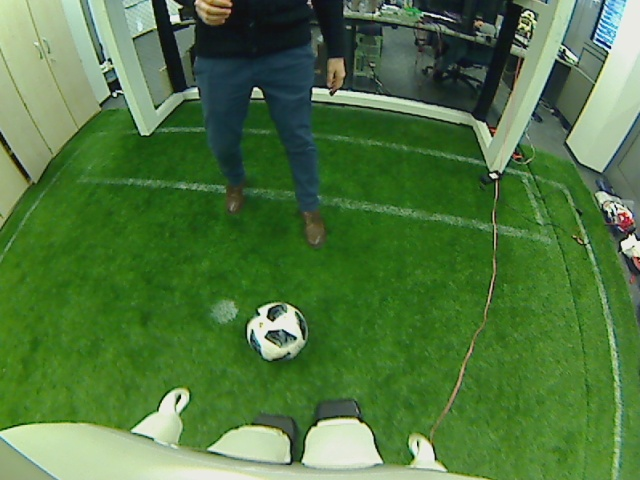ball: (244, 301, 309, 363)
